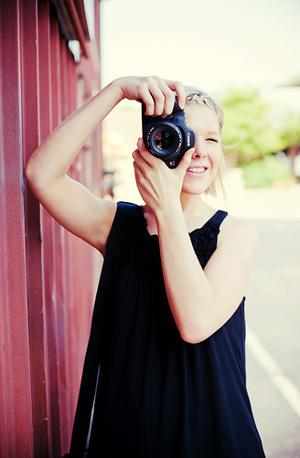person: (25, 76, 266, 455)
